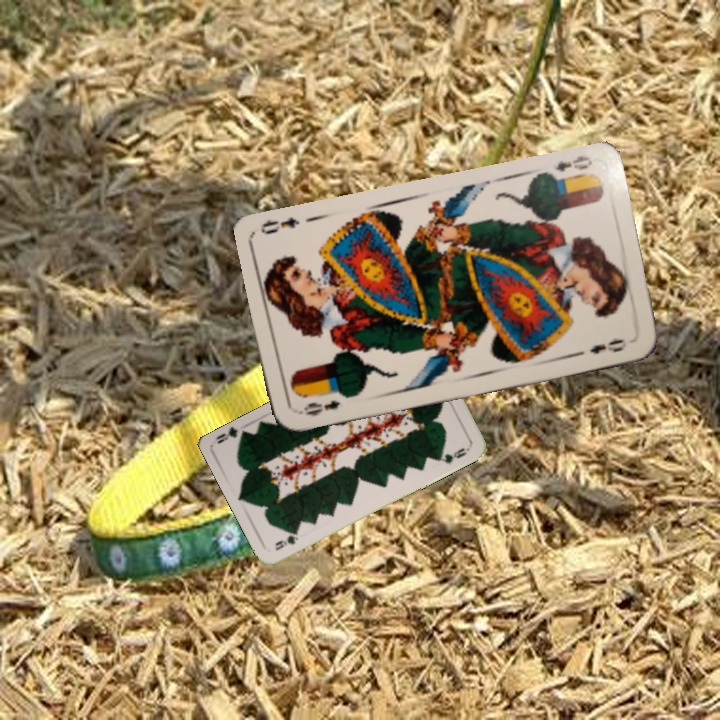EO: (293, 396, 343, 419), (551, 151, 595, 174)
G9: (271, 527, 301, 553)
